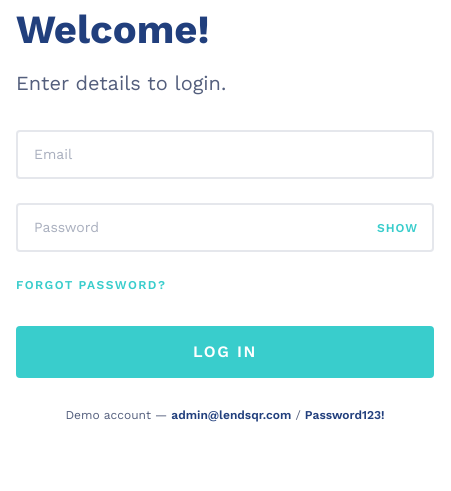
Scenario: LoginPage › validation › shows validation errors for empty submission
The image size is (451, 491).
Click the button "LOG IN" at (225, 352), box [16,326,434,378]
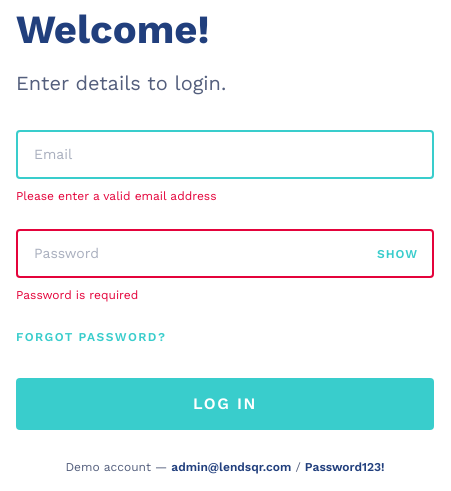
Result: the text "Please enter a valid email address" is shown at [16,189,216,203]
Result: the text "Password is required" is shown at [16,288,138,302]
